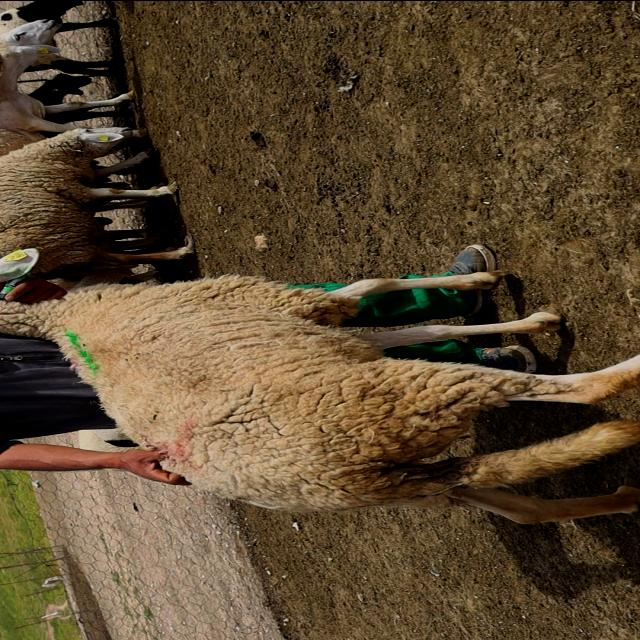Score_1: (0, 270, 639, 523)
